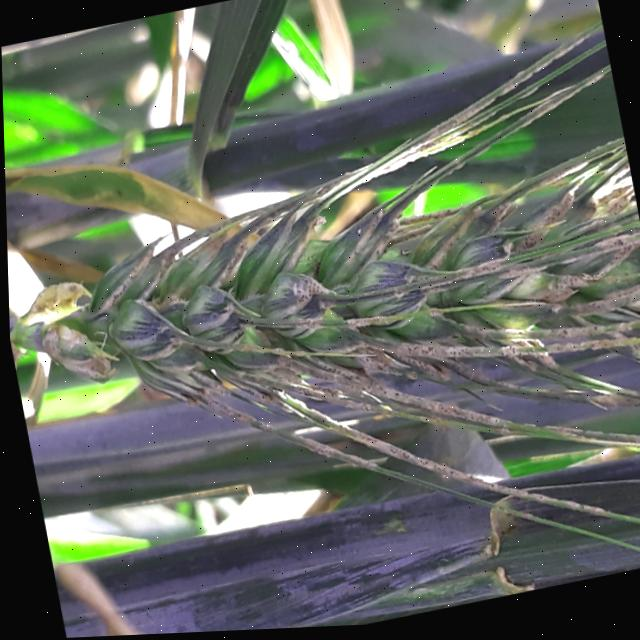powder_mildew: (1, 42, 640, 549)
